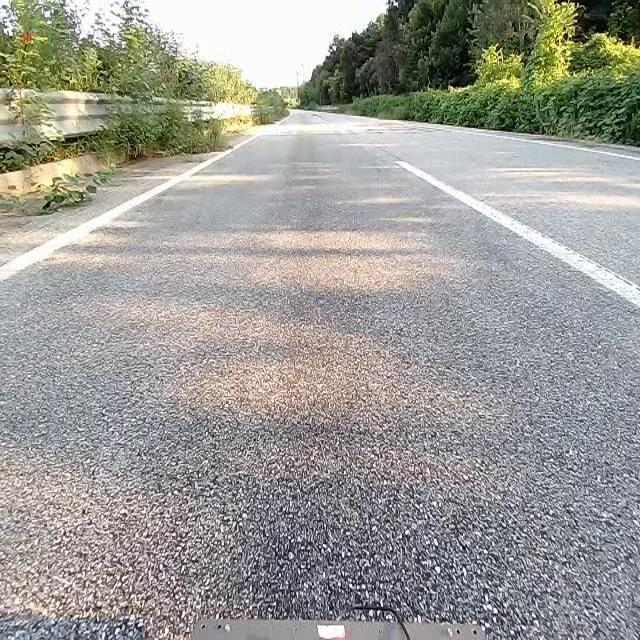Lane: (0, 123, 265, 285), (392, 153, 640, 313), (0, 131, 258, 281), (396, 158, 639, 308)
